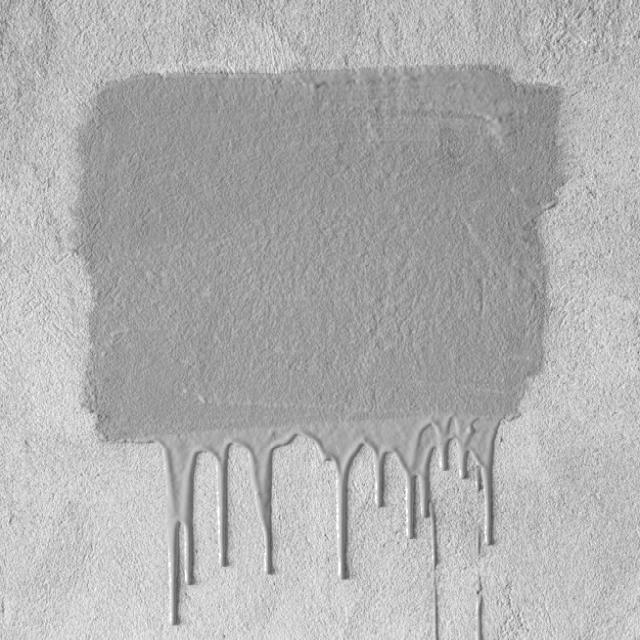paint drips: (77, 370, 556, 631)
